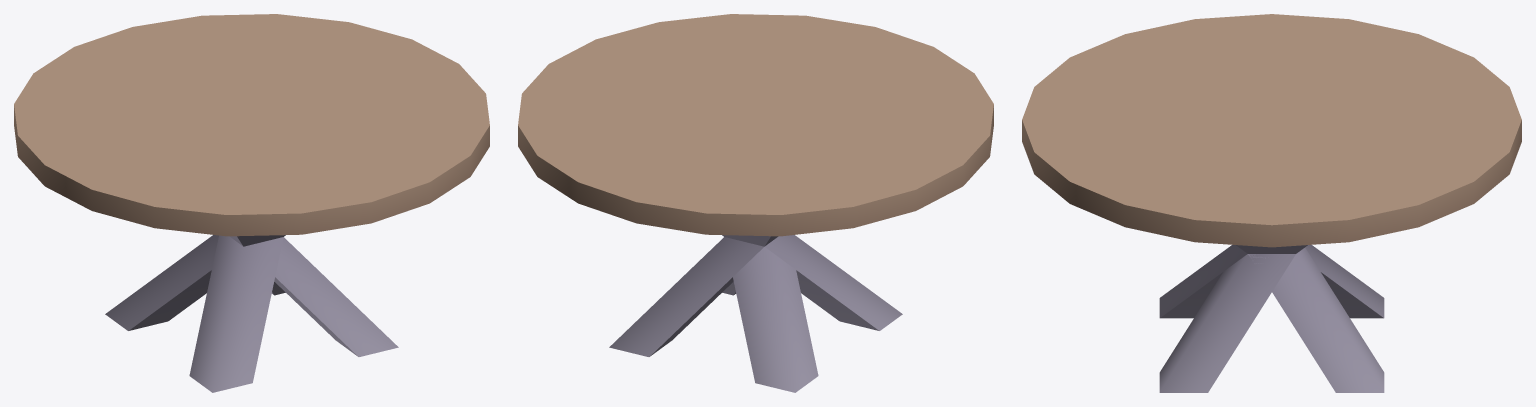
Rendered from table-kitchen-round-cross.glb.
3 views of the same model, side by side, from view 1: azimuth 30°, elevation 25°; view 2: azimuth 150°, elevation 25°; view 3: azimuth 270°, elevation 25° (orthographic). The views are drawn at different scales.
Visible parts, largest first — view 1: table-kitchen-round-cross; view 2: table-kitchen-round-cross; view 3: table-kitchen-round-cross.
Part boxes in pixels (x1,y1,x2,y2): table-kitchen-round-cross: (14,14,489,392); table-kitchen-round-cross: (518,14,993,392); table-kitchen-round-cross: (1022,14,1521,392).
Size of the model in its own units: 1.03 by 0.5146 by 1.03.
